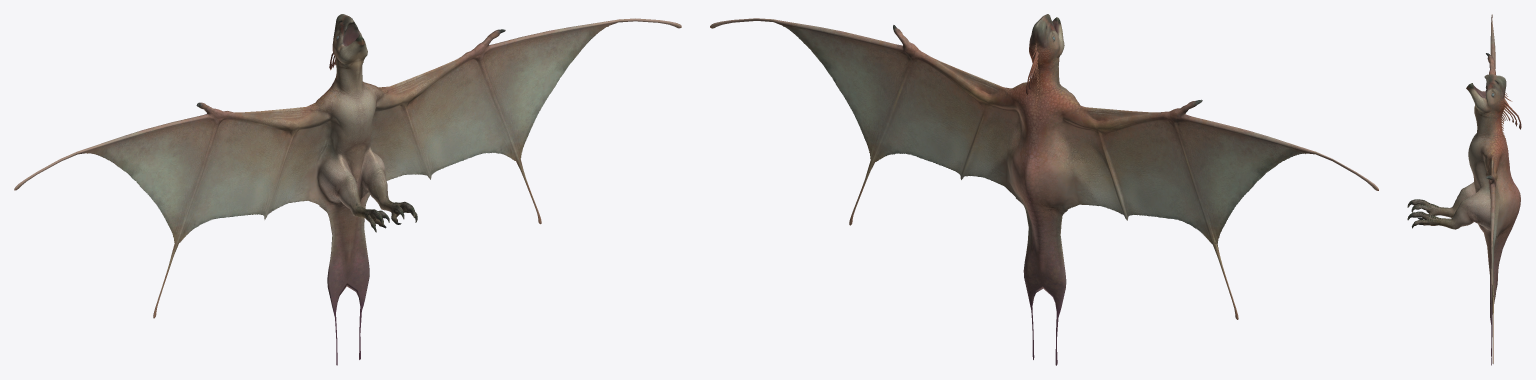
File: ems053_00.obj
3 views of the same model, side by side, from view 1: azimuth 30°, elevation 25°; view 2: azimuth 150°, elevation 25°; view 3: azimuth 270°, elevation 25° (orthographic). The views are drawn at different scales.
Parts seen in each view (by area): view 1: ems053_00_000_LOD_1; view 2: ems053_00_000_LOD_1; view 3: ems053_00_000_LOD_1.
Part boxes in pixels (bbox=[...]): ems053_00_000_LOD_1: bbox=[14, 14, 681, 365]; ems053_00_000_LOD_1: bbox=[710, 14, 1378, 365]; ems053_00_000_LOD_1: bbox=[1407, 14, 1521, 365].
Bounding box in the file's own units: 1224 × 608 × 219.
